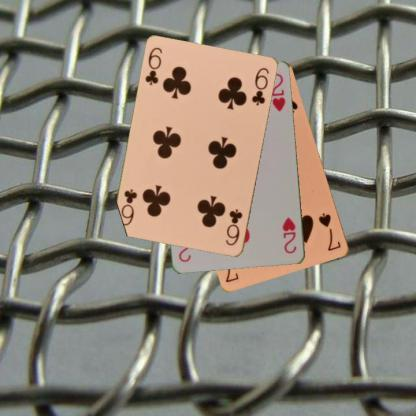2h: (280, 214, 298, 256)
6c: (142, 44, 164, 87), (223, 206, 244, 247)
7s: (316, 210, 343, 252)
